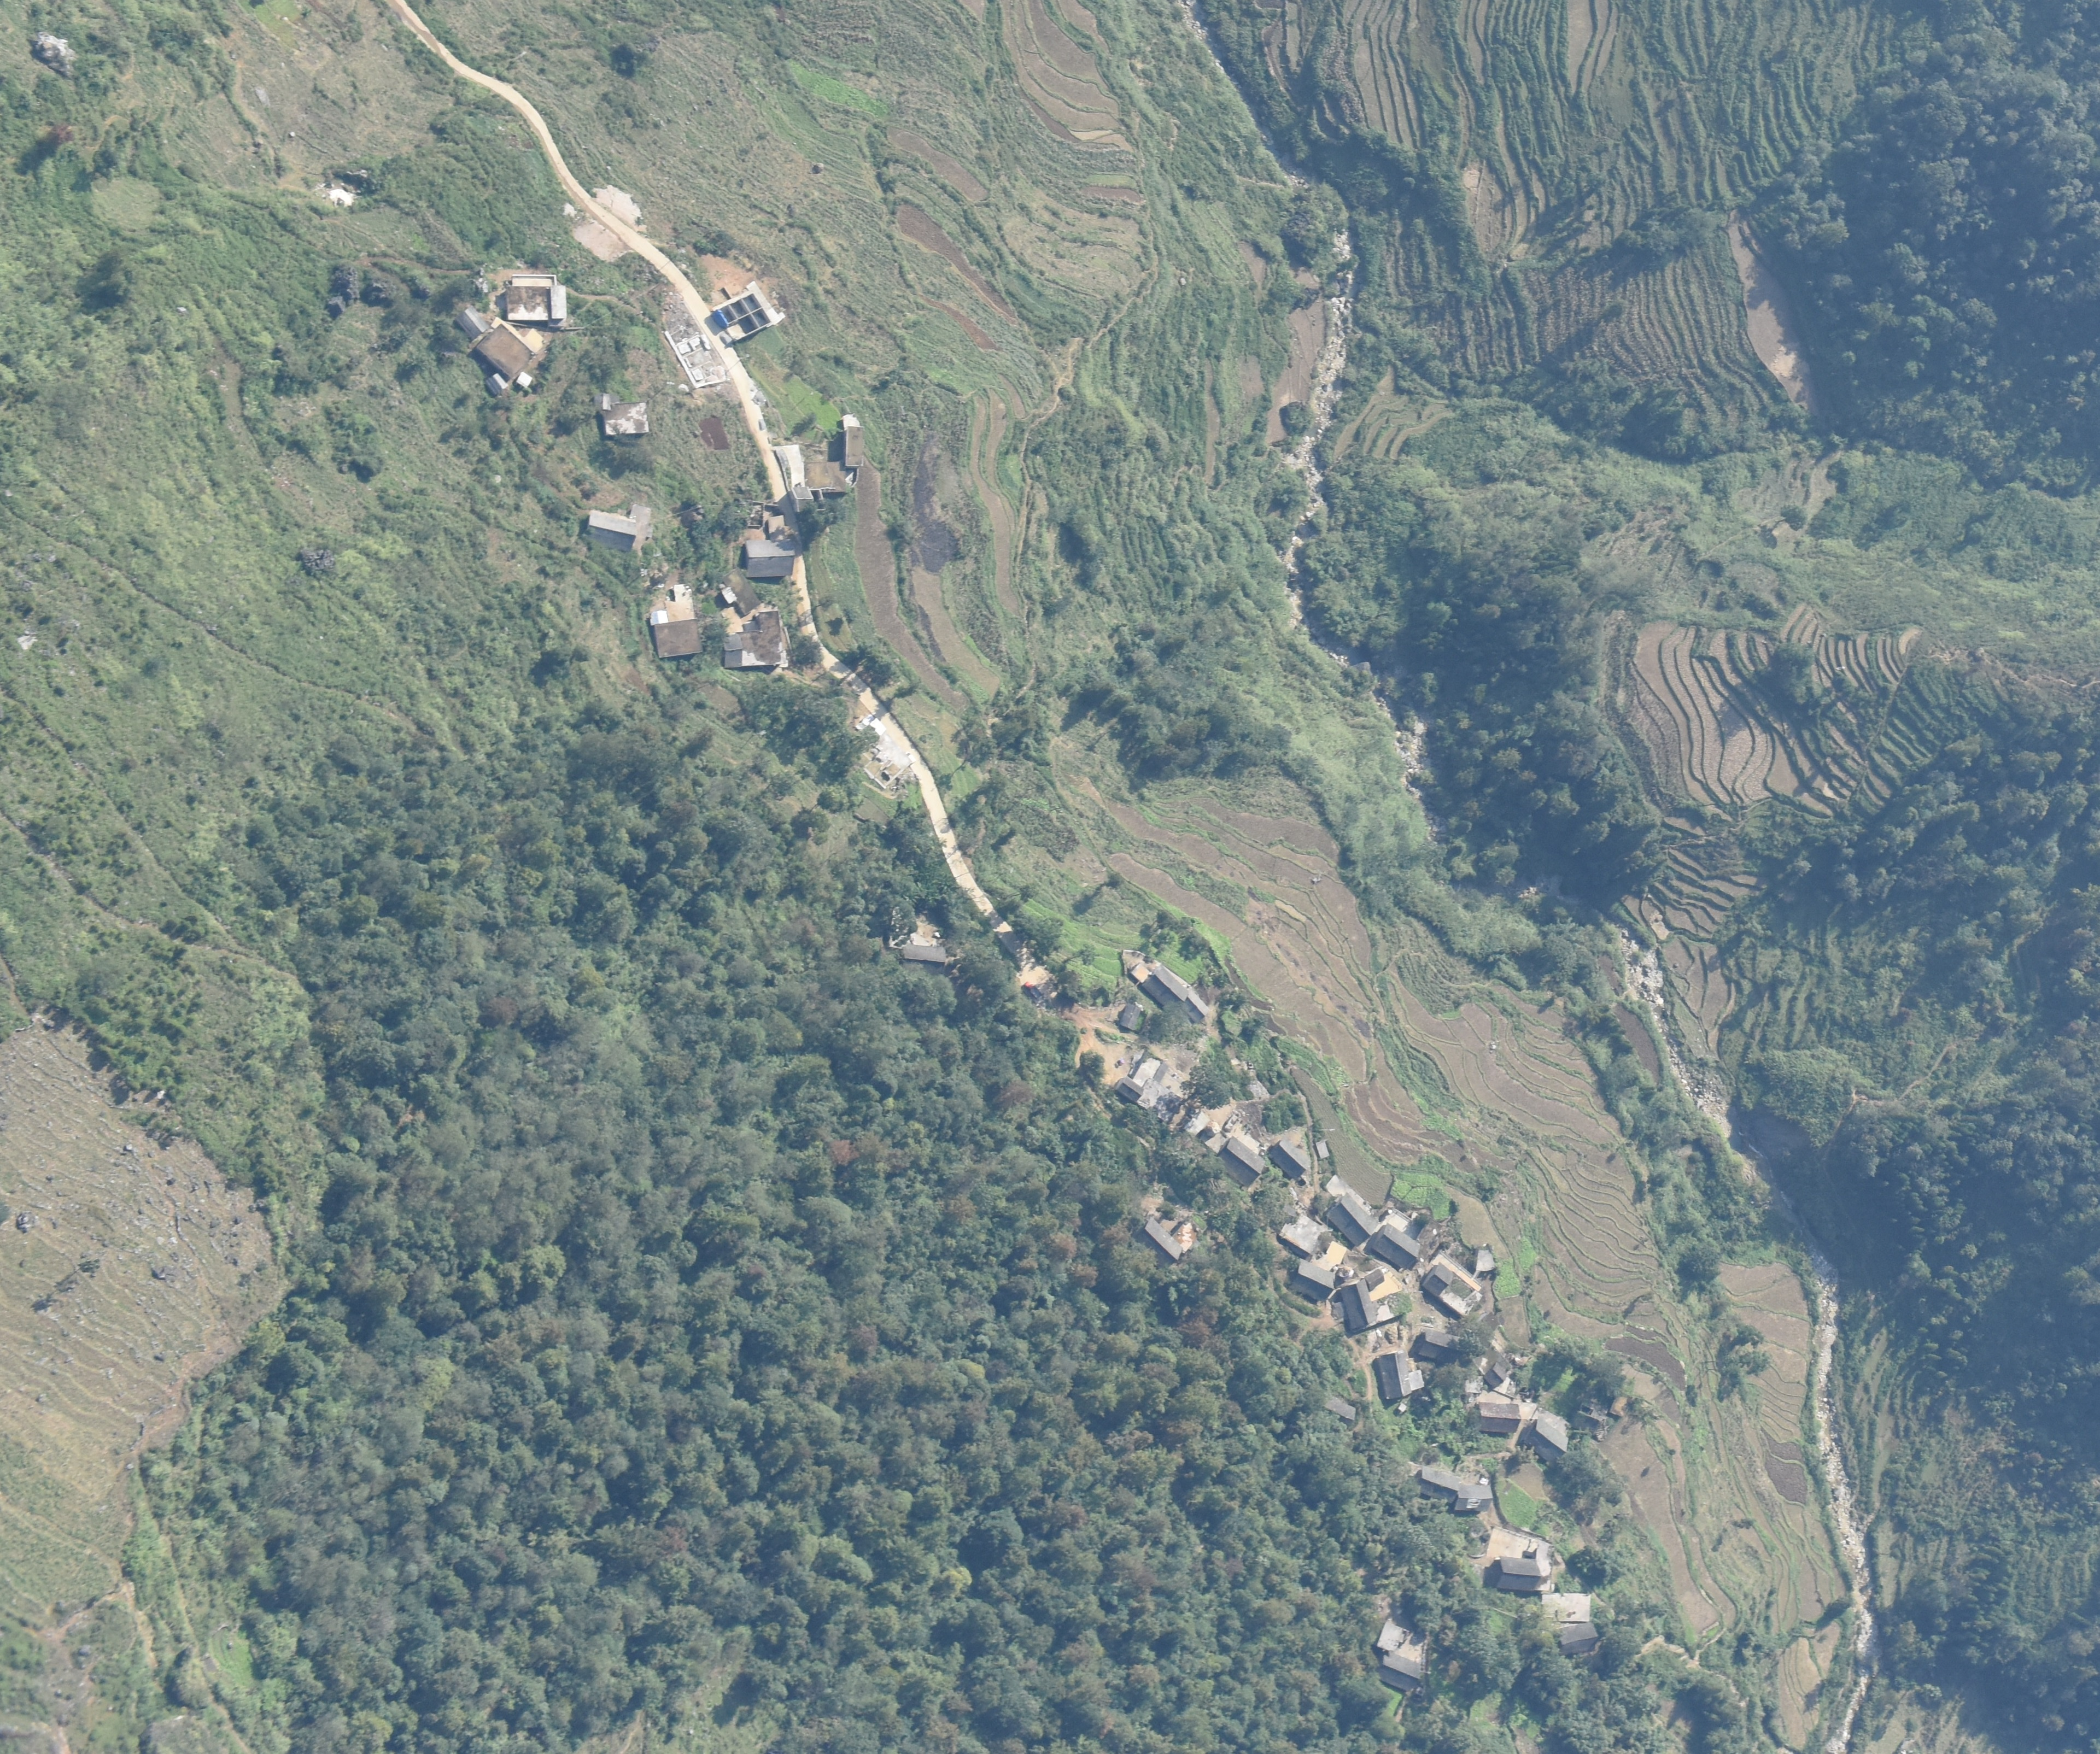building: (644, 586, 703, 656), (715, 283, 780, 345), (477, 320, 541, 376), (723, 612, 785, 667), (506, 273, 572, 323), (1216, 1137, 1266, 1189), (1328, 1193, 1375, 1243), (1142, 964, 1188, 1013), (1374, 1351, 1422, 1399), (594, 394, 648, 436), (1373, 1224, 1421, 1269), (1281, 1210, 1326, 1256), (1138, 1076, 1181, 1124), (588, 509, 636, 550), (1440, 1270, 1481, 1316), (720, 567, 759, 614), (1266, 1139, 1309, 1180), (746, 541, 794, 577), (1142, 1217, 1180, 1263), (1378, 1652, 1422, 1691), (1529, 1417, 1567, 1461), (1341, 1280, 1373, 1332), (1294, 1260, 1334, 1301), (1420, 1465, 1459, 1506), (1475, 1403, 1522, 1434), (1498, 1556, 1542, 1590), (1419, 1330, 1466, 1361), (1542, 1593, 1592, 1621), (1171, 1215, 1207, 1253), (1473, 1345, 1510, 1381), (1554, 1623, 1598, 1653), (803, 462, 846, 490), (843, 417, 865, 467), (1320, 1394, 1357, 1424), (903, 944, 946, 969), (1453, 1485, 1493, 1512), (776, 445, 804, 483), (1131, 1052, 1160, 1089), (1318, 1239, 1347, 1274), (630, 504, 651, 553), (455, 307, 487, 338), (1377, 1618, 1404, 1653), (1182, 991, 1209, 1025), (1179, 1102, 1207, 1135), (1423, 1264, 1452, 1295), (1418, 1214, 1441, 1249), (1114, 1077, 1143, 1102), (1119, 1002, 1140, 1029), (792, 488, 814, 511), (484, 373, 506, 395), (867, 716, 887, 740), (1609, 1393, 1628, 1418), (1366, 1266, 1385, 1289), (1130, 963, 1151, 984), (1476, 1248, 1495, 1270), (769, 515, 786, 538), (1313, 1141, 1330, 1159), (1465, 1377, 1483, 1394), (514, 372, 531, 387), (1282, 1207, 1297, 1221)
vehicle: (1023, 981, 1043, 999)
